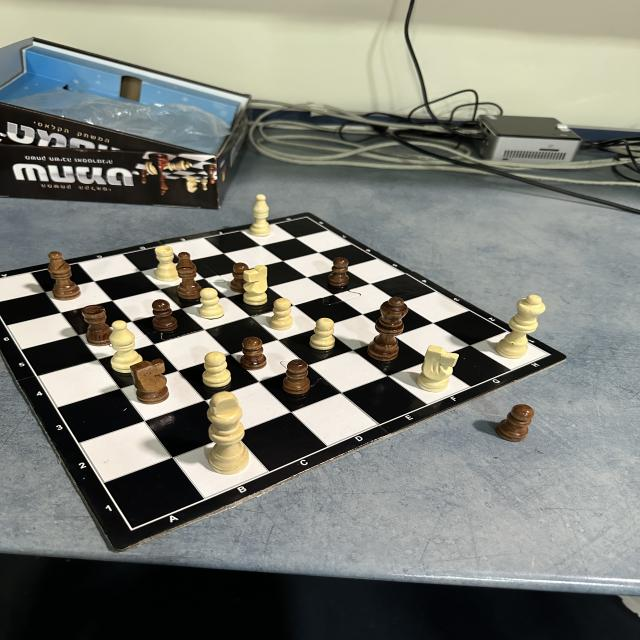Black-Bishop: (48, 251, 82, 301), (177, 252, 200, 300)
Black-Knight: (131, 358, 169, 404)
Black-Pawn: (494, 404, 534, 442), (282, 359, 311, 395), (240, 336, 267, 371), (152, 299, 178, 332), (327, 257, 350, 287), (230, 262, 244, 293)
Black-Queen: (366, 297, 408, 362)
Black-Rook: (81, 304, 109, 346)
White-Bishop: (109, 320, 135, 374), (249, 194, 271, 237)
White-King: (206, 391, 250, 475)
White-Knight: (417, 345, 460, 393), (244, 265, 269, 306)
White-Pawn: (202, 351, 232, 388), (309, 318, 336, 350), (269, 298, 294, 330), (200, 288, 224, 320)
White-Queen: (496, 294, 546, 360)
White-Rook: (154, 245, 175, 282)
